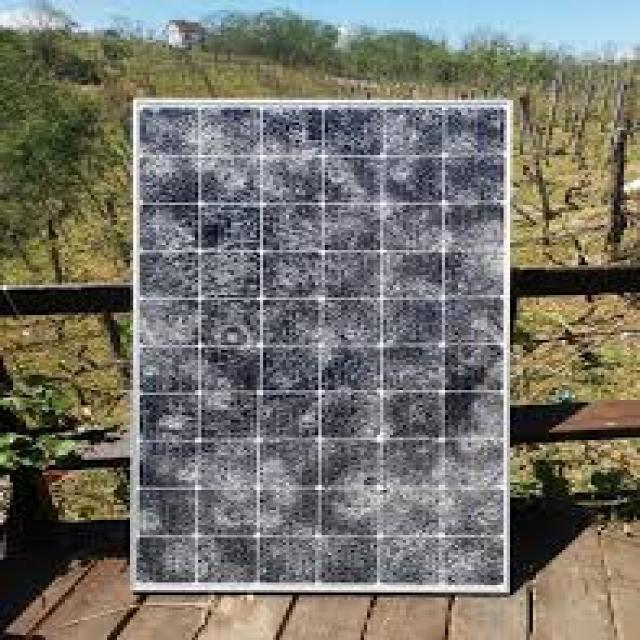faulty: (132, 102, 515, 594)
